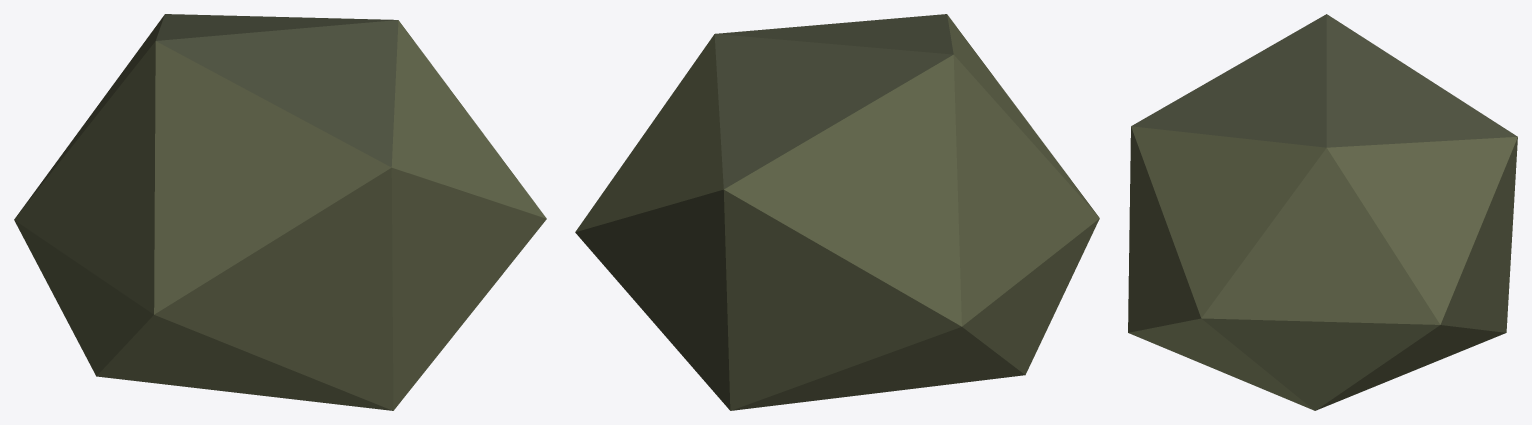
File: TB_D_Env_GrassD_C.FBX
3 views of the same model, side by side, from view 1: azimuth 30°, elevation 25°; view 2: azimuth 150°, elevation 25°; view 3: azimuth 270°, elevation 25° (orthographic). The views are drawn at different scales.
Visible parts, largest first — view 1: TB_D_Env_GrassD_C; view 2: TB_D_Env_GrassD_C; view 3: TB_D_Env_GrassD_C.
Boxes of the visible parts, <box> form: TB_D_Env_GrassD_C: <box>14,14,546,410</box>; TB_D_Env_GrassD_C: <box>575,14,1099,410</box>; TB_D_Env_GrassD_C: <box>1128,14,1517,410</box>.
Bounding box in the file's own units: 1.26 × 0.9639 × 1.27.
